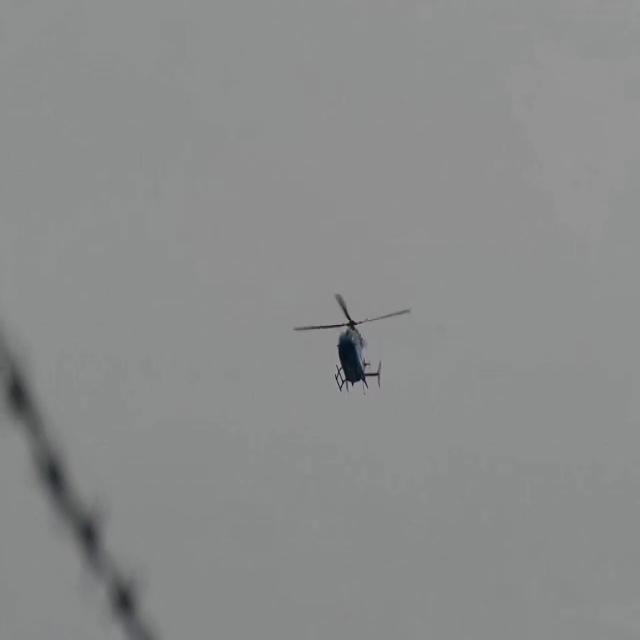Helicopter: (285, 278, 415, 402)
